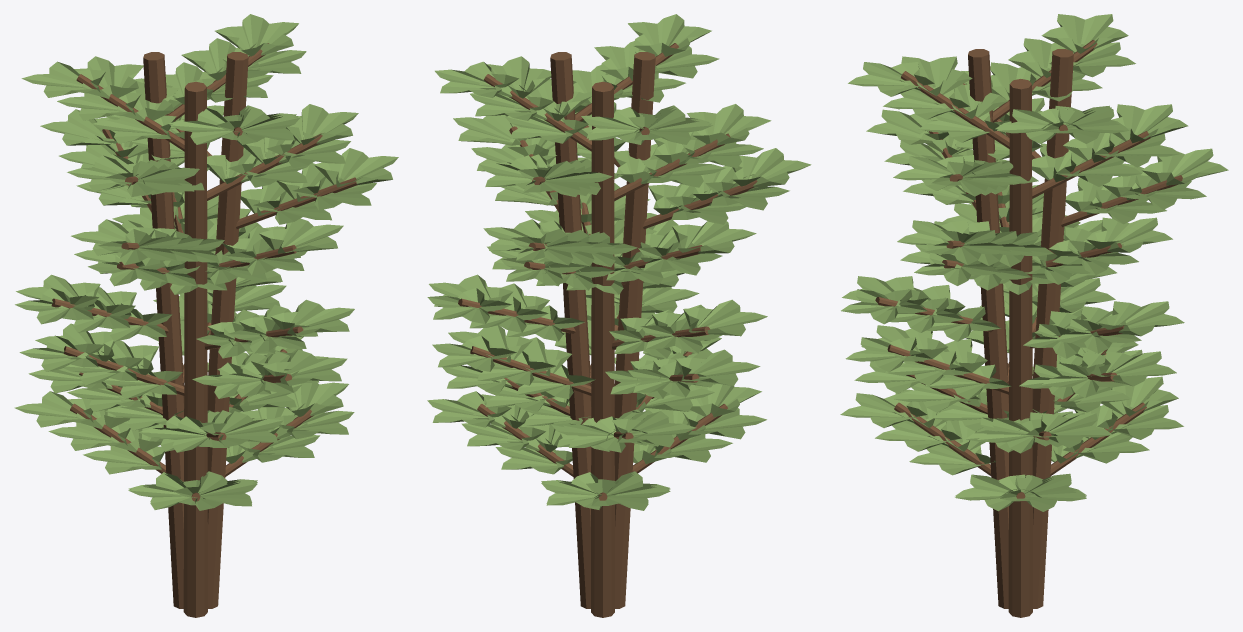
3 renders of one model, left to right at view 1: azimuth 30°, elevation 25°; view 2: azimuth 150°, elevation 25°; view 3: azimuth 270°, elevation 25°, orthographic.
Parts seen in each view (by area): view 1: WW-151 Five lobed field maple sapling batched; view 2: WW-151 Five lobed field maple sapling batched; view 3: WW-151 Five lobed field maple sapling batched.
Boxes of the visible parts, x1,y1,x2,y2 form: WW-151 Five lobed field maple sapling batched: (14, 14, 398, 617); WW-151 Five lobed field maple sapling batched: (427, 14, 811, 617); WW-151 Five lobed field maple sapling batched: (840, 14, 1228, 617).
Size of the model in its own units: 1.12 by 1.72 by 1.12.
